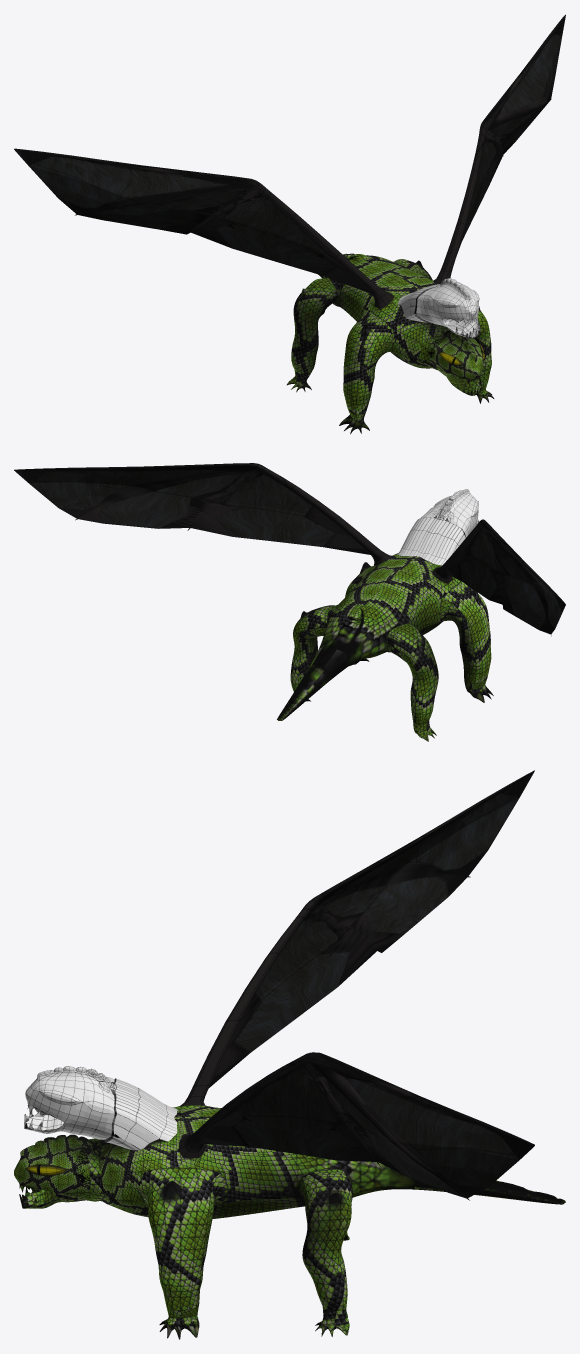
Rendered from monster_000003.obj.
3 renders of one model, top to bottom at view 1: azimuth 30°, elevation 25°; view 2: azimuth 150°, elevation 25°; view 3: azimuth 270°, elevation 25°, orthographic. The views are drawn at different scales.
Parts seen in each view (by area): view 1: body_Cube, secondHead_Cube.002; view 2: body_Cube, secondHead_Cube.002; view 3: body_Cube, secondHead_Cube.002.
Part boxes in pixels (<box>): body_Cube: <box>14,14,565,434</box>; secondHead_Cube.002: <box>398,278,480,337</box>; body_Cube: <box>14,463,565,741</box>; secondHead_Cube.002: <box>397,489,479,565</box>; body_Cube: <box>14,770,565,1339</box>; secondHead_Cube.002: <box>24,1066,177,1150</box>.
Bounding box in the file's own units: 8.85 × 3.66 × 5.51.
